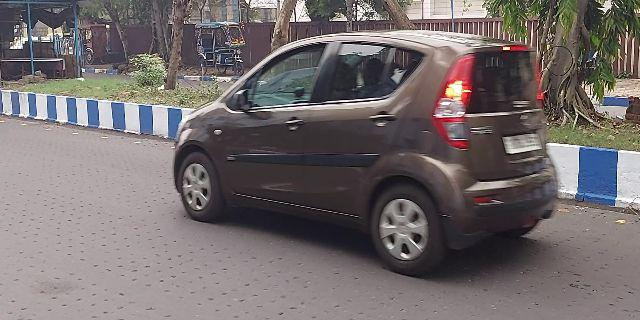Car: (171, 32, 564, 269)
